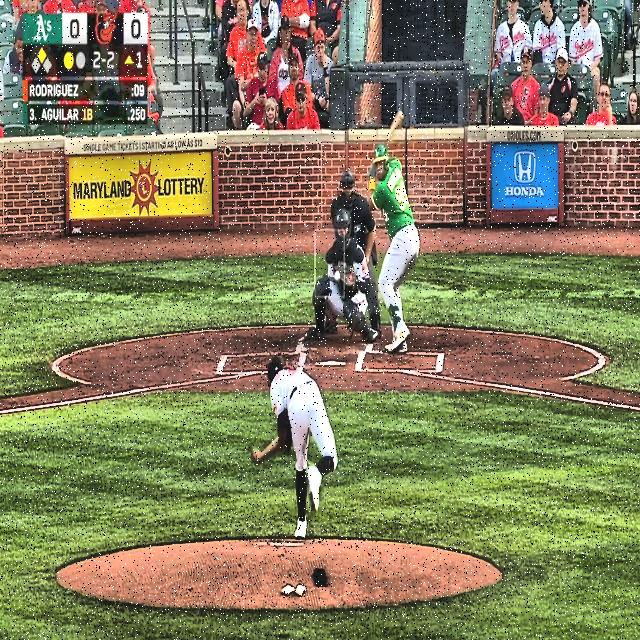baseball: (334, 270, 340, 282)
